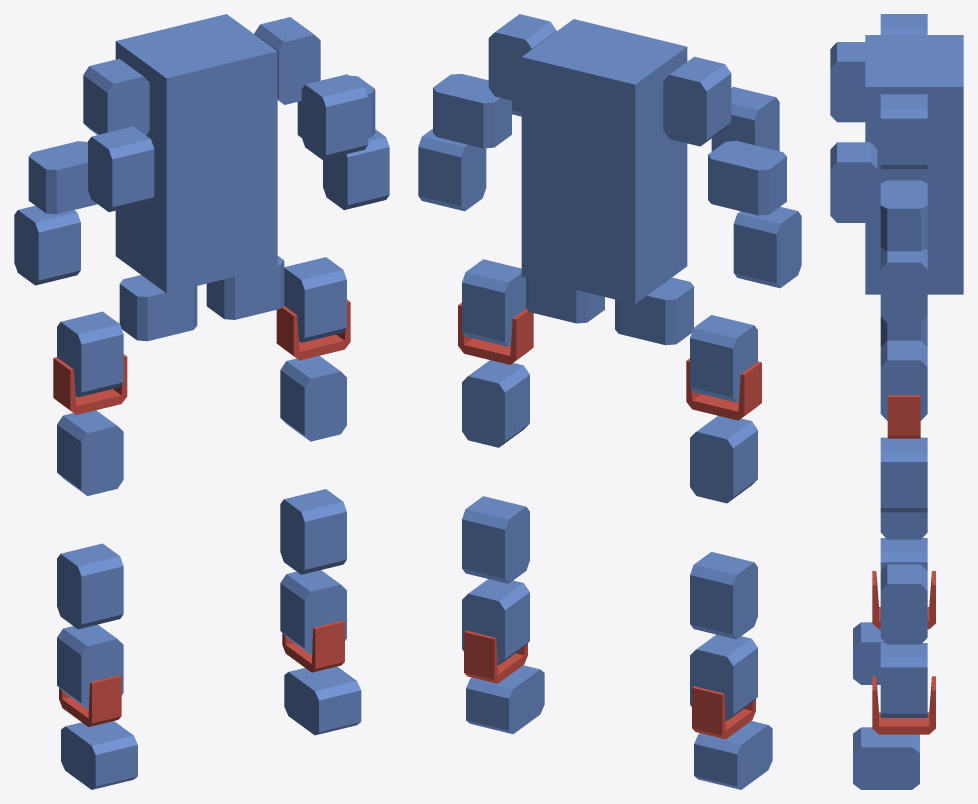
The model's file is full_robot_mx28_collada.dae.
3 renders of one model, left to right at view 1: azimuth 30°, elevation 25°; view 2: azimuth 150°, elevation 25°; view 3: azimuth 270°, elevation 25°, orthographic. The views are drawn at different scales.
Visible parts, largest first — view 1: Cube, Cylinder_014, Cylinder_011, Cylinder_015, Cylinder_004, Cylinder_007, Cylinder, Cylinder_019, Cylinder_010, Cylinder_006, Cylinder_003, Cylinder_013 (+13 smaller); view 2: Cube, Cylinder_009, Cylinder_004, Cylinder_011, Cylinder_017, Cylinder_007, Cylinder, Cylinder_019, Cylinder_016, Cylinder_010, Cylinder_003, Cylinder_018 (+12 smaller); view 3: Cube, Cylinder_006, Cylinder_014, Cylinder_004, Cylinder_008, Cylinder, Cylinder_005, Cylinder_018, Cylinder_016, Cylinder_003, Cylinder_015, Cylinder_013 (+7 smaller).
Part boxes in pixels (bbox=[...]): Cube: bbox=[115, 14, 277, 293]; Cylinder_014: bbox=[301, 74, 368, 159]; Cylinder_011: bbox=[57, 543, 123, 629]; Cylinder_015: bbox=[88, 126, 154, 211]; Cylinder_004: bbox=[280, 489, 346, 574]; Cylinder_007: bbox=[57, 410, 123, 495]; Cylinder: bbox=[280, 356, 346, 441]; Cylinder_019: bbox=[14, 205, 80, 285]; Cylinder_010: bbox=[57, 311, 123, 397]; Cylinder_006: bbox=[284, 666, 361, 735]; Cylinder_003: bbox=[284, 257, 346, 342]; Cylinder_013: bbox=[61, 721, 137, 789]; Cube: bbox=[521, 19, 687, 304]; Cylinder_009: bbox=[663, 56, 731, 146]; Cylinder_004: bbox=[462, 496, 529, 583]; Cylinder_011: bbox=[690, 552, 757, 639]; Cylinder_017: bbox=[708, 141, 786, 215]; Cylinder_007: bbox=[690, 416, 757, 503]; Cylinder: bbox=[462, 360, 529, 447]; Cylinder_019: bbox=[733, 206, 801, 288]; Cylinder_016: bbox=[433, 73, 511, 148]; Cylinder_010: bbox=[690, 315, 757, 402]; Cylinder_003: bbox=[462, 259, 526, 346]; Cylinder_018: bbox=[418, 129, 486, 211]; Cube: bbox=[865, 35, 963, 294]; Cylinder_006: bbox=[853, 727, 919, 789]; Cylinder_014: bbox=[830, 142, 877, 222]; Cylinder_004: bbox=[880, 564, 927, 644]; Cylinder_008: bbox=[880, 94, 927, 169]; Cylinder: bbox=[880, 437, 927, 512]; Cylinder_005: bbox=[880, 643, 927, 717]; Cylinder_018: bbox=[880, 248, 927, 323]; Cylinder_016: bbox=[880, 180, 927, 251]; Cylinder_003: bbox=[880, 340, 927, 420]; Cylinder_015: bbox=[830, 42, 865, 122]; Cylinder_013: bbox=[853, 622, 885, 684].
Bounding box in the file's own units: 2.95 × 1.01 × 5.56.
